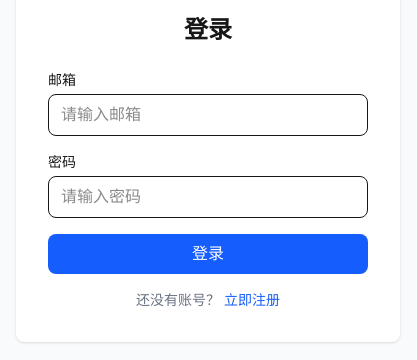
LoginPage › disables button while submitting
This screenshot has width=417, height=360.
Type "test@test.com" into the field with placeholder "请输入邮箱" at [208, 115], box top-left (48, 94), bottom-right (368, 136)
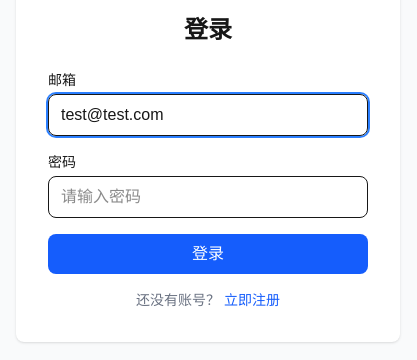
Type "123456" into the password field with placeholder "请输入密码" at [208, 197], box top-left (48, 176), bottom-right (368, 218)
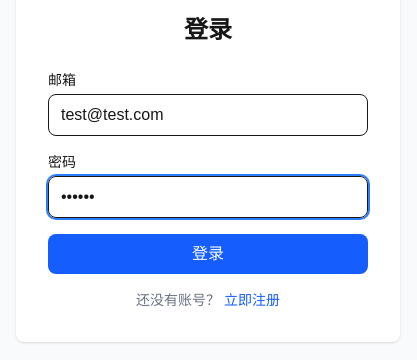
Click the button "登录" at [208, 254], box top-left (48, 234), bottom-right (368, 274)
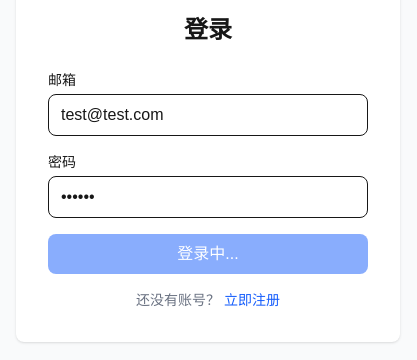
Expected: the button is disabled, top-left (48, 234), bottom-right (368, 274)
